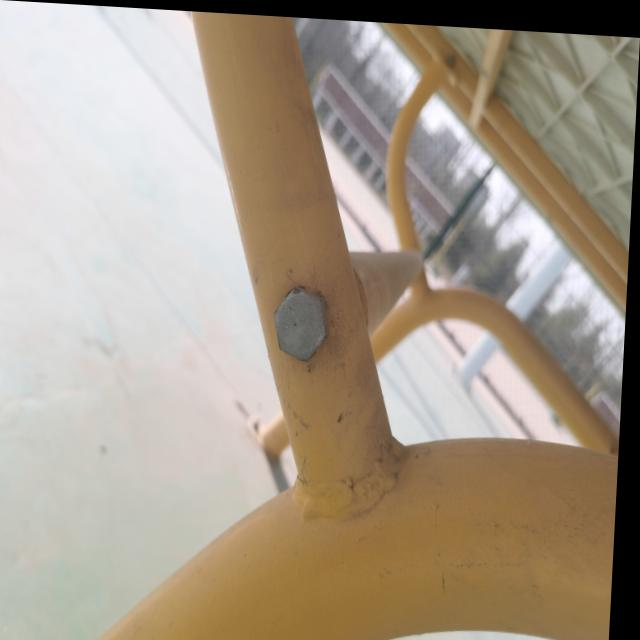Regular bolt: (276, 283, 335, 360)
